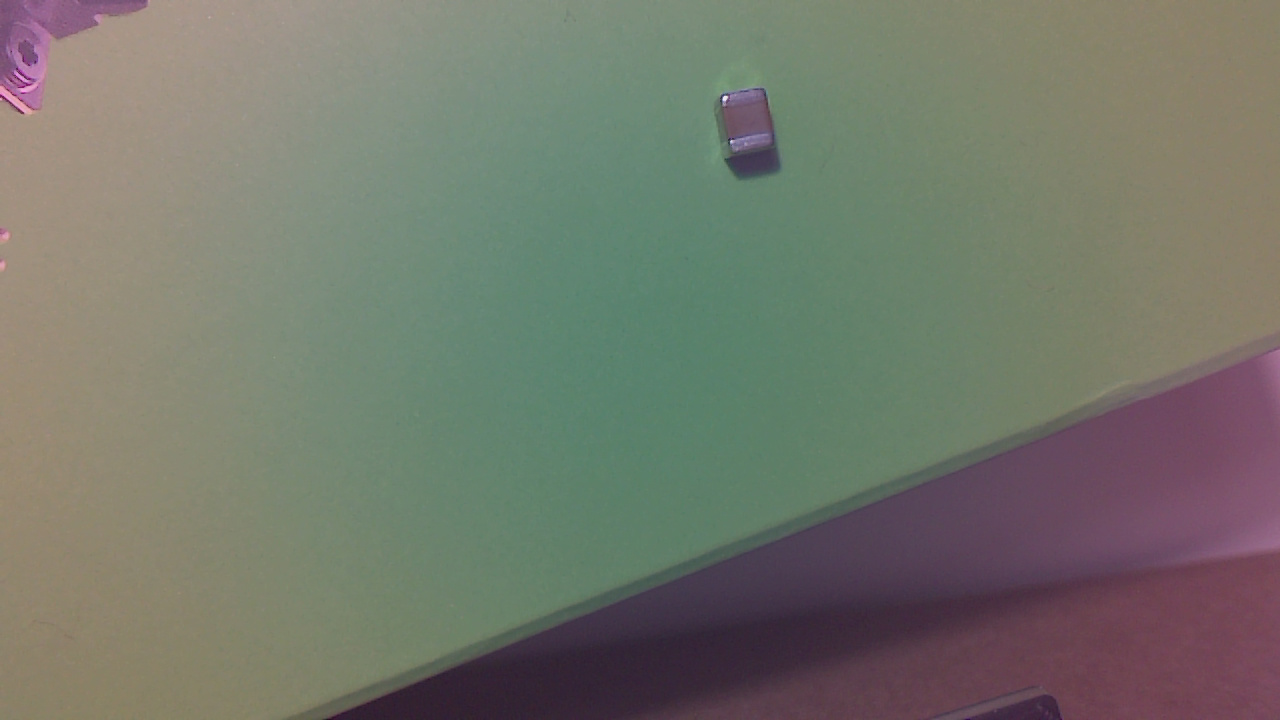Condensator: (716, 90, 784, 172)
